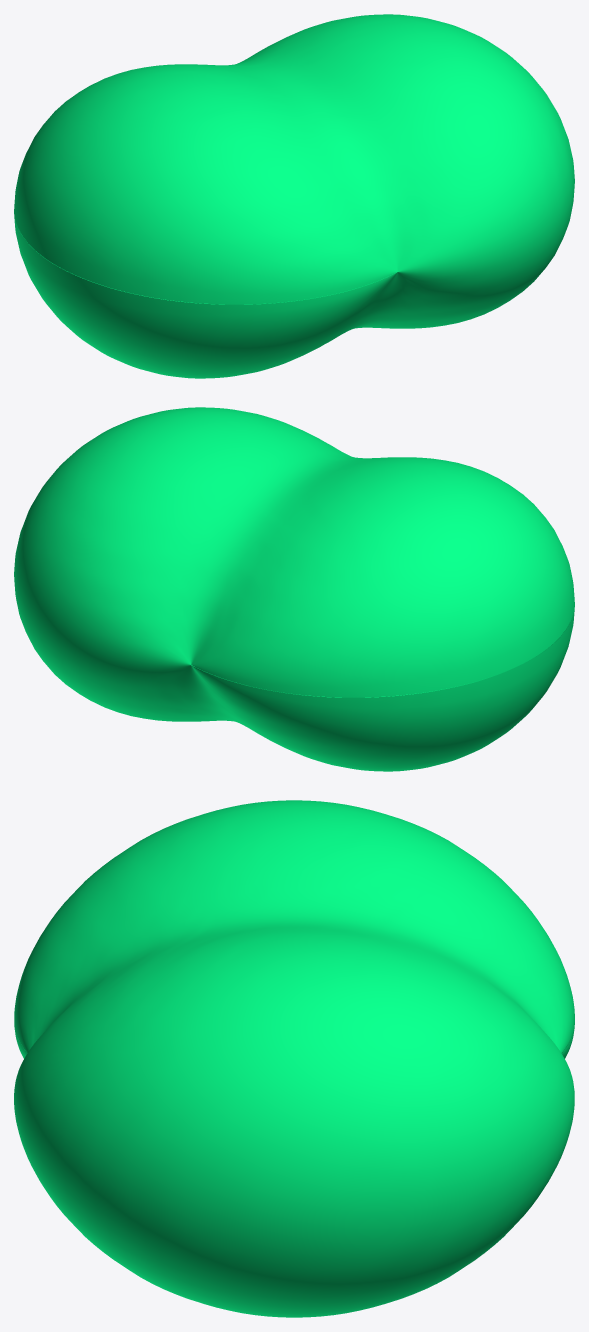
File: sectional_curvature_surface_ar_universal.glb
3 views of the same model, one above another, from view 1: azimuth 30°, elevation 25°; view 2: azimuth 150°, elevation 25°; view 3: azimuth 270°, elevation 25° (orthographic). The views are drawn at different scales.
Visible parts, largest first — view 1: sectional_curvature_surface_ar; view 2: sectional_curvature_surface_ar; view 3: sectional_curvature_surface_ar.
Part boxes in pixels (<box>): sectional_curvature_surface_ar: <box>14,14,574,378</box>; sectional_curvature_surface_ar: <box>14,407,574,771</box>; sectional_curvature_surface_ar: <box>14,800,574,1317</box>.
Bounding box in the file's own units: 1 × 0.5084 × 0.7633.
